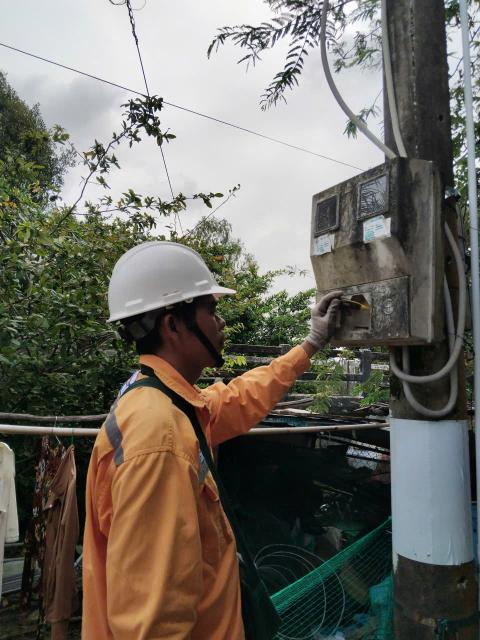gloves: (278, 281, 363, 355)
helmet: (72, 223, 243, 326)
